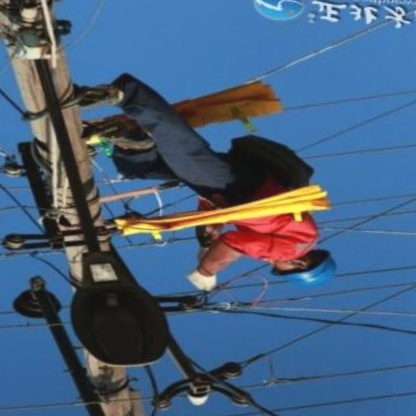blue: (269, 248, 348, 294)
